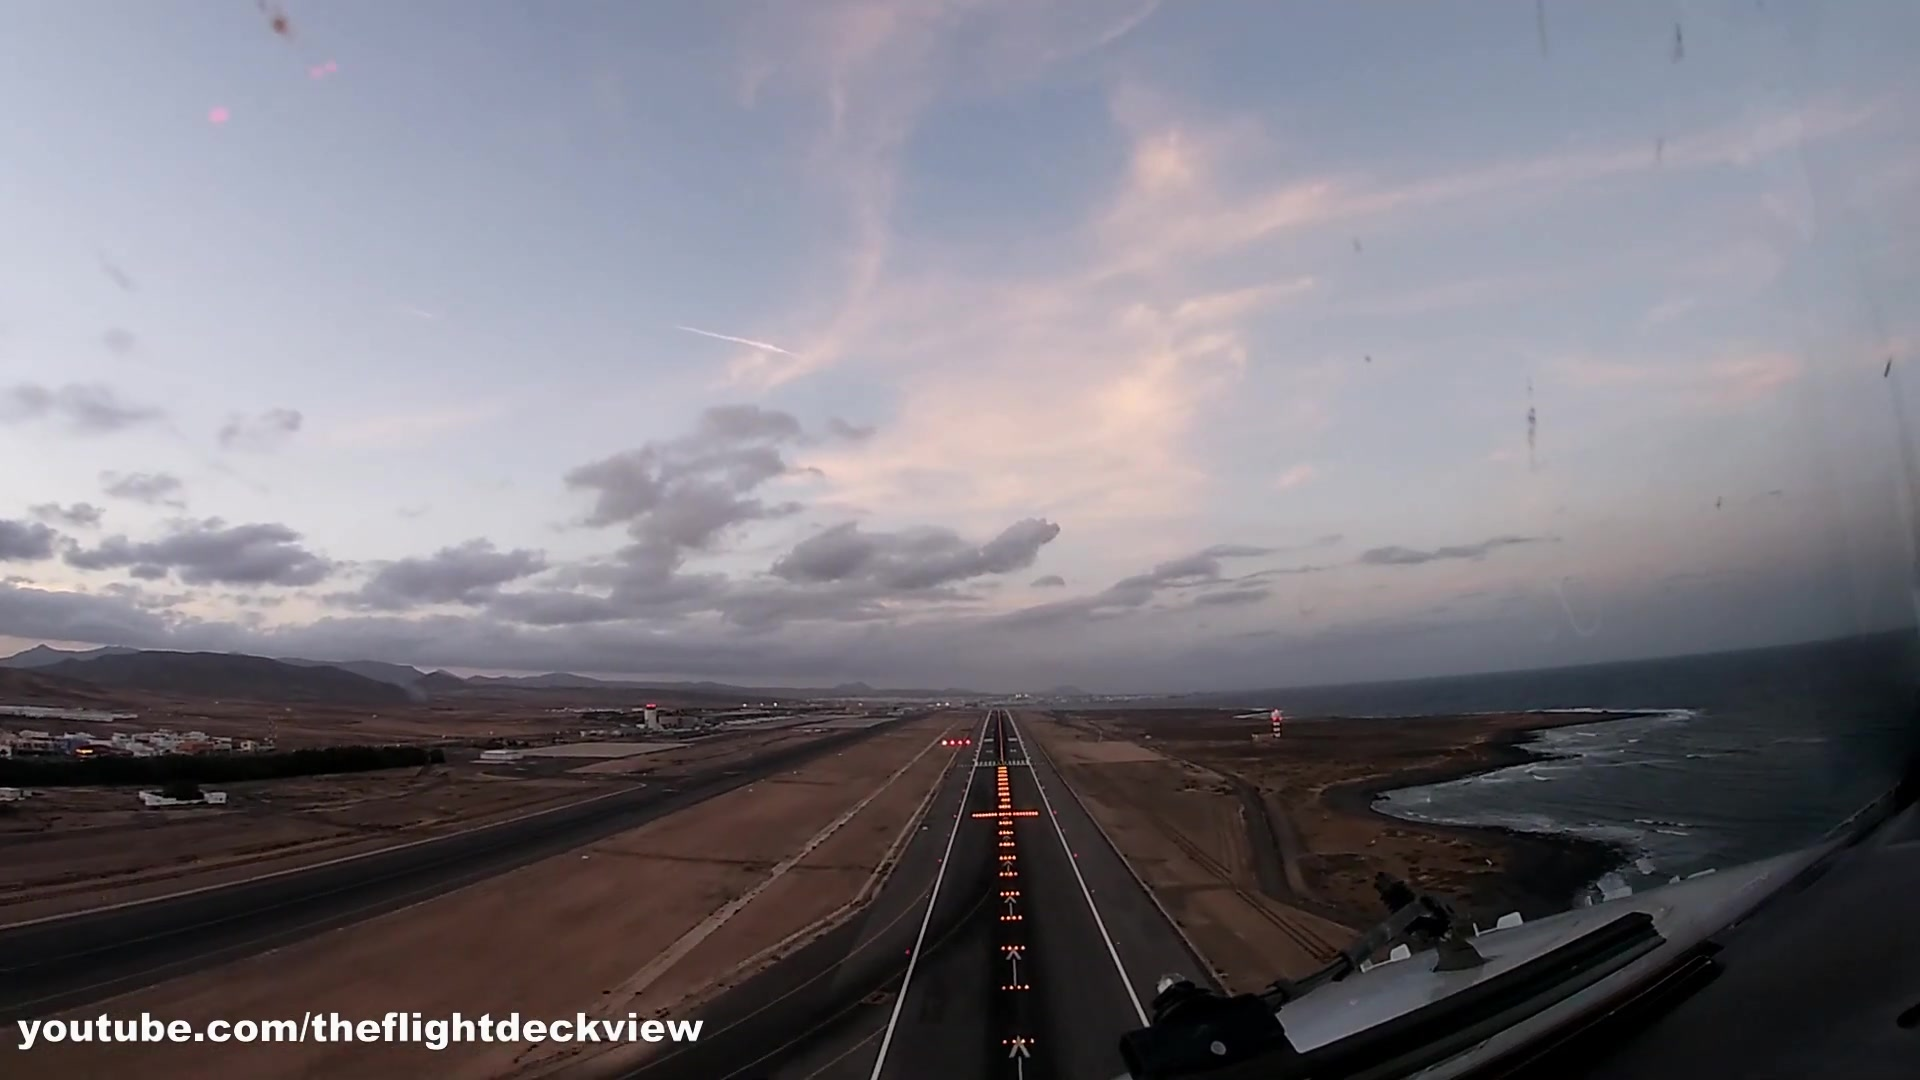entrance: (973, 756, 1027, 767)
runway: (967, 707, 1036, 770)
